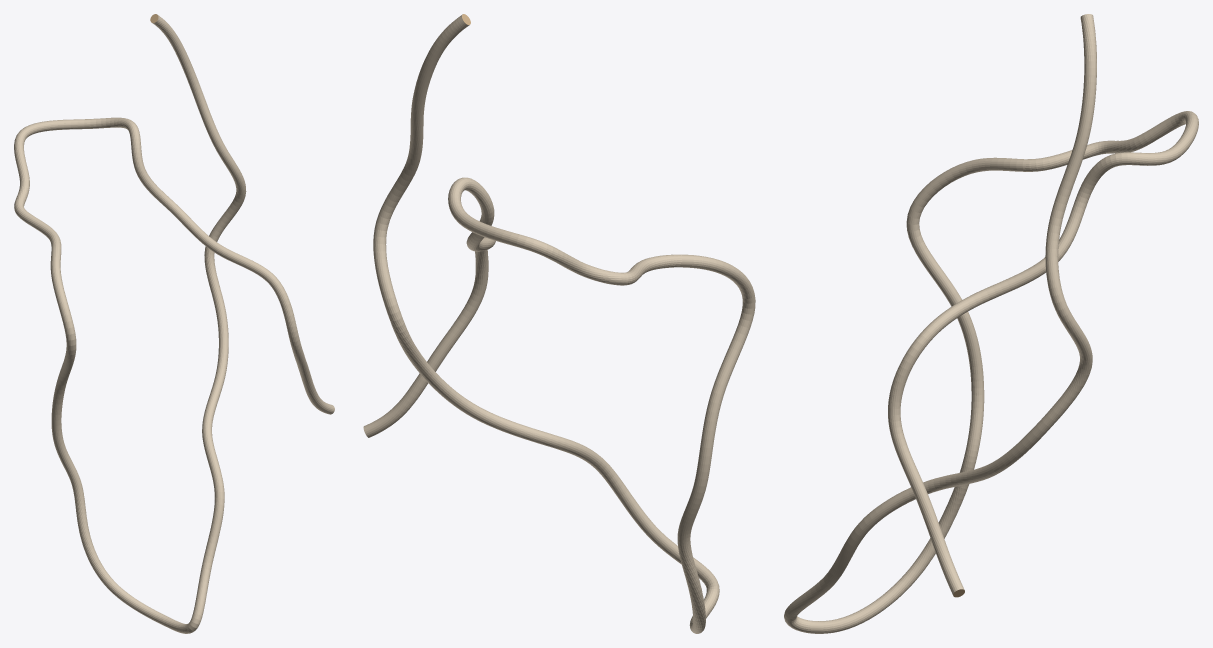
Rendered from SheetfCoilSheet.dae.
3 renders of one model, left to right at view 1: azimuth 30°, elevation 25°; view 2: azimuth 150°, elevation 25°; view 3: azimuth 270°, elevation 25°, orthographic. The views are drawn at different scales.
Visible parts, largest first — view 1: Shape_IndexedTriangleStripSet_029; view 2: Shape_IndexedTriangleStripSet_029; view 3: Shape_IndexedTriangleStripSet_029.
Boxes of the visible parts, x1=… form: Shape_IndexedTriangleStripSet_029: x1=14, y1=14, x2=334, y2=633; Shape_IndexedTriangleStripSet_029: x1=363, y1=14, x2=755, y2=633; Shape_IndexedTriangleStripSet_029: x1=784, y1=14, x2=1198, y2=633.
Size of the model in its own units: 16.52 by 16.17 by 28.87.
